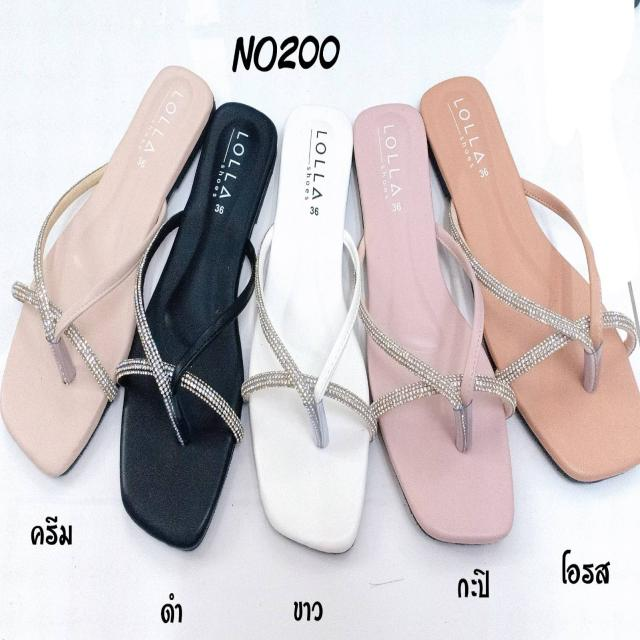black: (111, 114, 280, 552)
cream: (0, 48, 228, 490)
kapi: (358, 105, 521, 550)
orot: (416, 53, 640, 486)
white: (248, 107, 378, 548)
